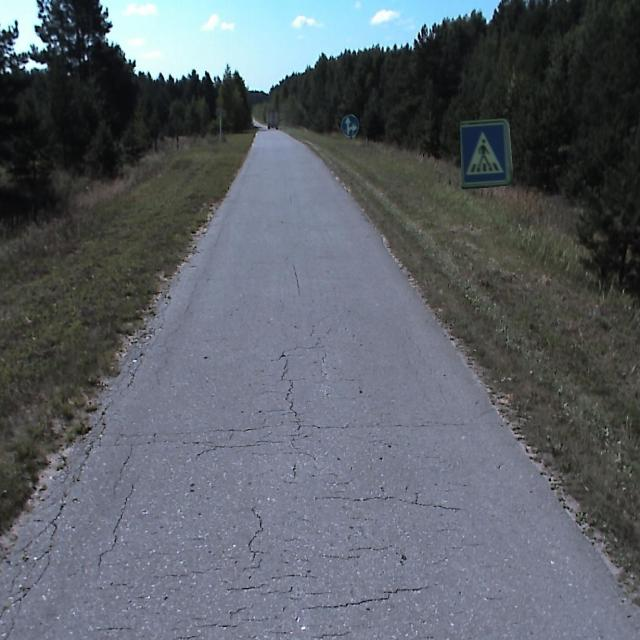road: (0, 130, 639, 639)
